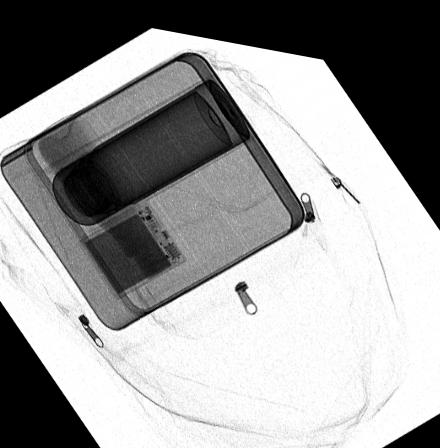Powerbank: (77, 195, 186, 295)
